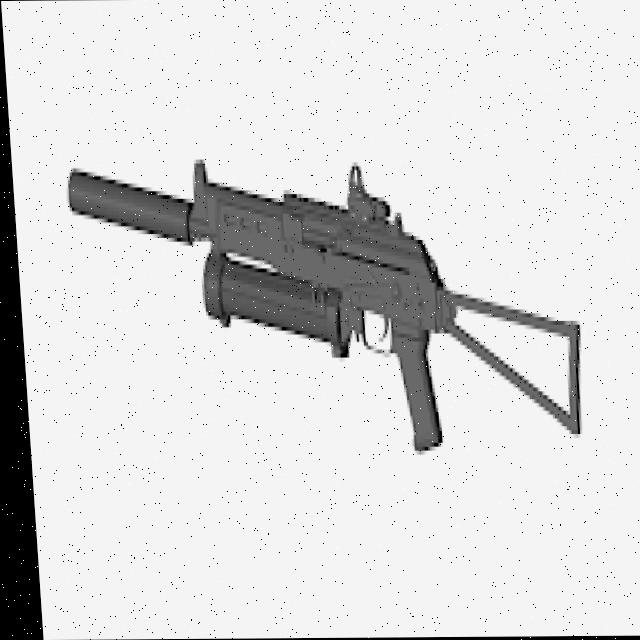firearm: (63, 159, 580, 453)
